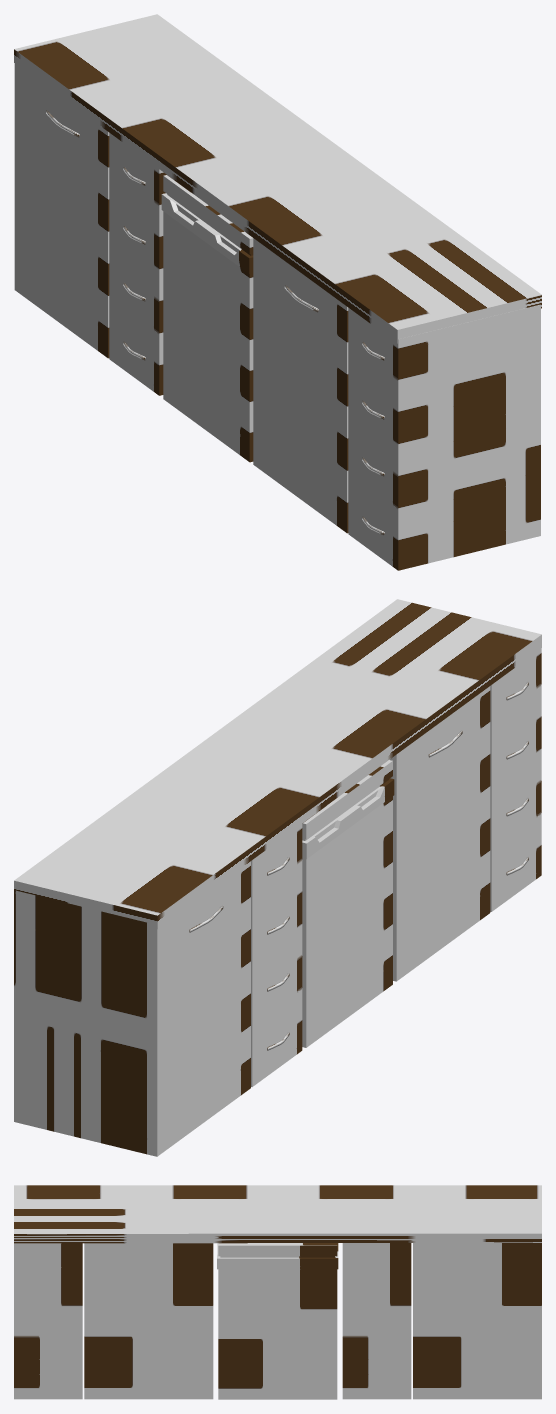
File: encimera+cajones.fbx
3 views of the same model, one above another, from view 1: azimuth 30°, elevation 25°; view 2: azimuth 150°, elevation 25°; view 3: azimuth 270°, elevation 25° (orthographic). The views are drawn at different scales.
Visible parts, largest first — view 1: encimera+cajones; view 2: encimera+cajones; view 3: encimera+cajones.
Boxes of the visible parts, x1,y1,x2,y2 form: encimera+cajones: (14,14,541,570); encimera+cajones: (14,599,541,1156); encimera+cajones: (14,1185,541,1399).
Size of the model in its own units: 946 by 1470 by 4239.
